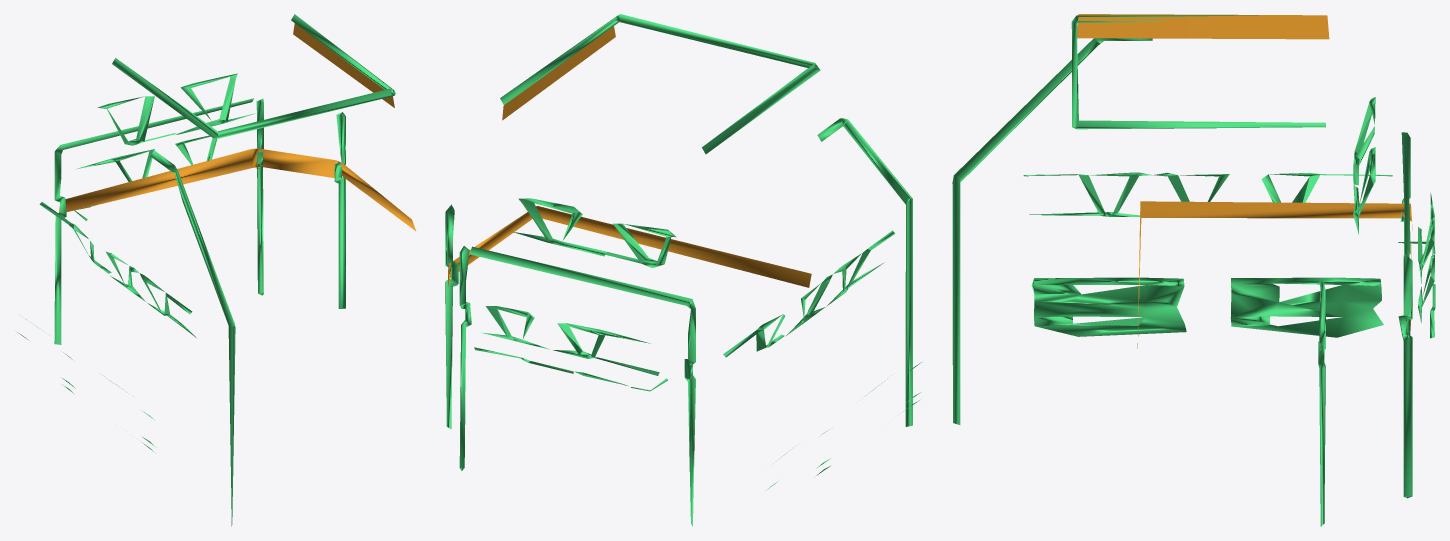
File: backdrop_top_d_lod2.glb
3 views of the same model, side by side, from view 1: azimuth 30°, elevation 25°; view 2: azimuth 150°, elevation 25°; view 3: azimuth 270°, elevation 25° (orthographic). The views are drawn at different scales.
Size of the model in its own units: 51.35 by 56.03 by 57.07.
